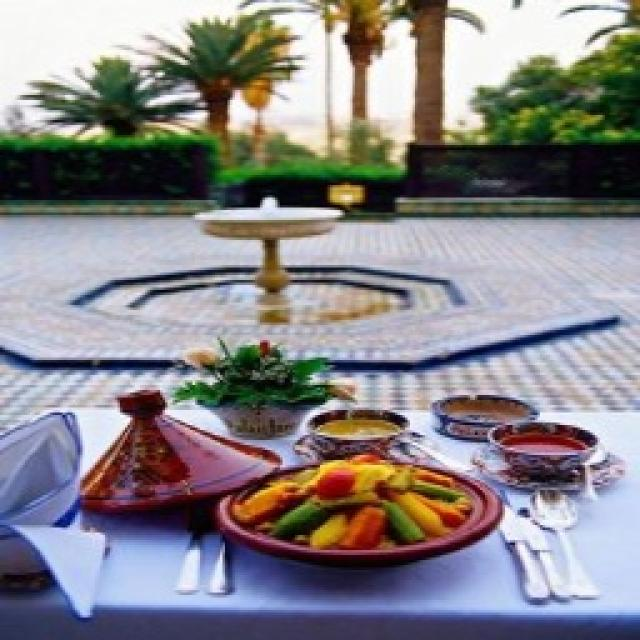Couscous: (230, 455, 475, 550)
